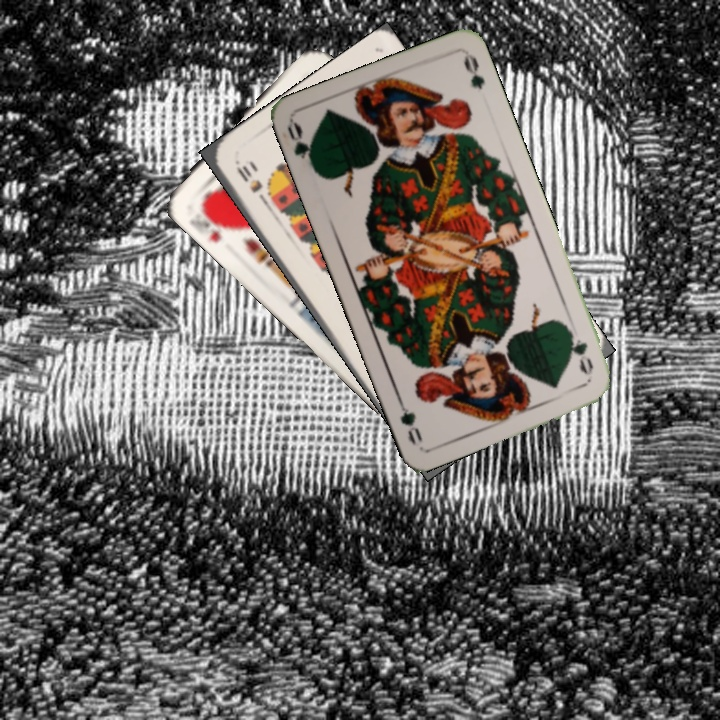GO: (283, 119, 319, 175), (563, 325, 596, 378)
HK: (195, 200, 230, 246)
S10: (230, 156, 271, 208)
